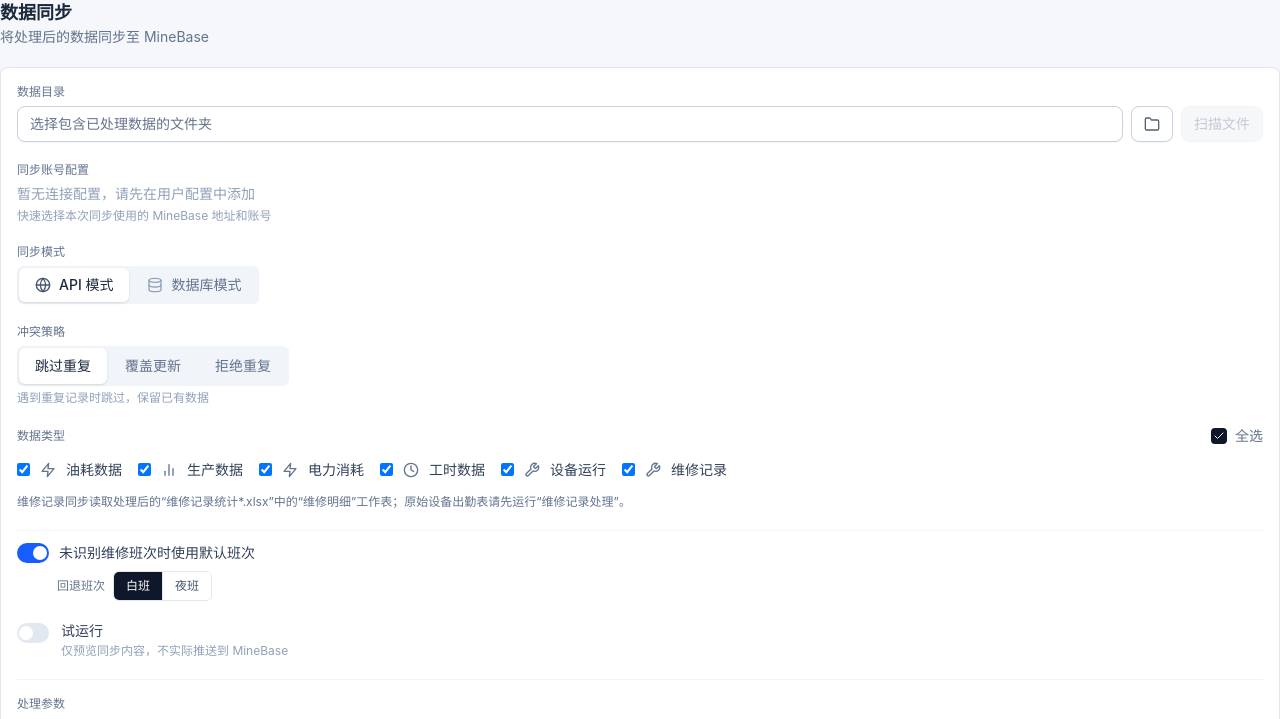
Test case: DataSyncPage - Export Warnings › shows empty placeholder for null/empty values in warnings table
Type "/tmp/test" into the field with placeholder "选择包含已处理数据的文件夹" at [570, 124], box [17,106,1123,142]
(page scrolled)
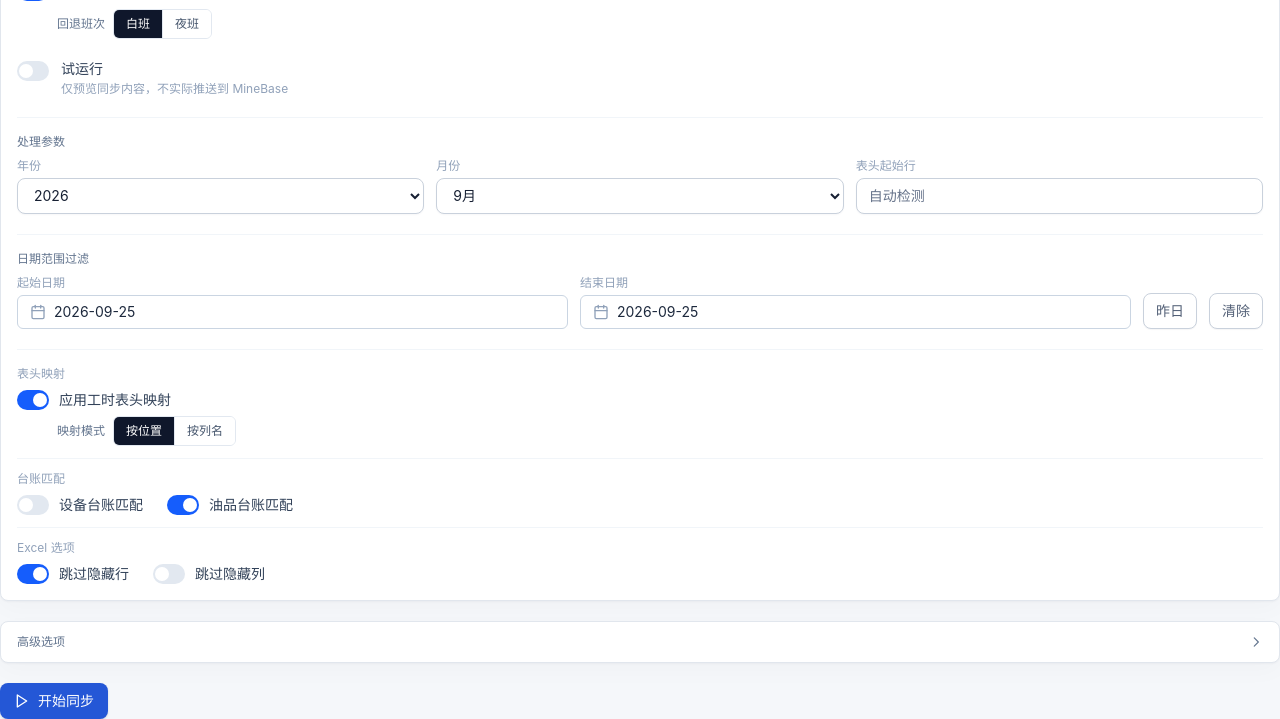
Click the button "开始同步" at [54, 700], box [0,682,108,718]
(page scrolled)
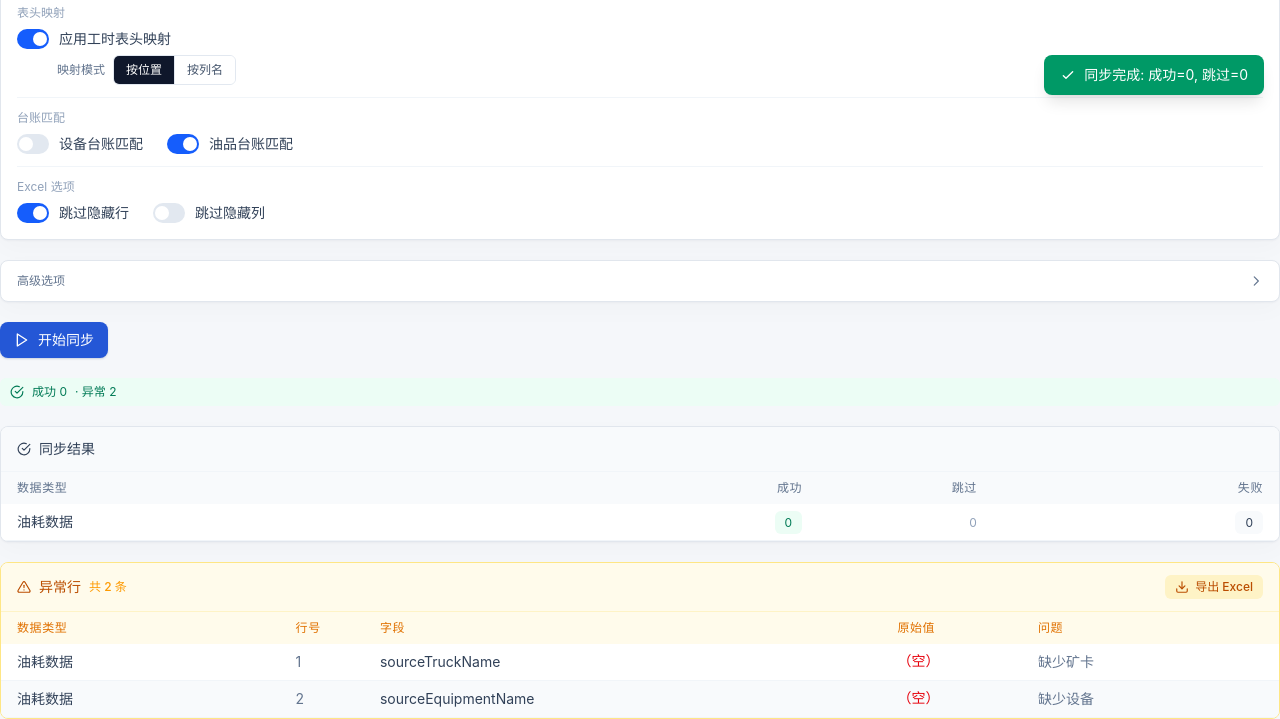
Check: the heading "异常行 共 2 条" is shown, box [17,576,127,596]
Check: the text "（空）" is shown 2 times, box [897,644,1038,680]; [897,680,1038,717]
